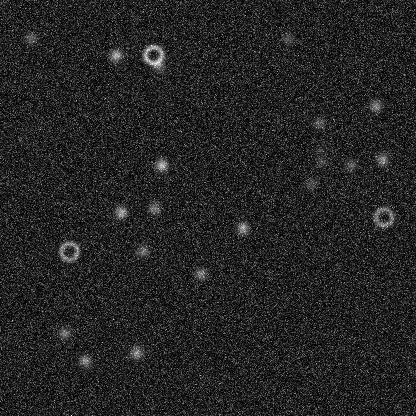Ring: (57, 239, 81, 263), (371, 204, 395, 228), (141, 42, 165, 66)
Spot: (76, 352, 92, 368), (374, 151, 390, 167), (192, 265, 208, 281), (135, 243, 151, 259), (107, 47, 123, 63), (343, 157, 359, 173), (313, 153, 329, 169), (313, 141, 329, 157), (153, 157, 169, 173), (234, 220, 250, 236), (23, 30, 39, 46), (279, 30, 295, 46), (367, 97, 383, 113), (150, 58, 166, 74), (112, 204, 128, 220), (128, 344, 144, 360), (56, 325, 72, 341), (310, 114, 326, 130), (146, 200, 162, 216), (302, 175, 318, 191)
